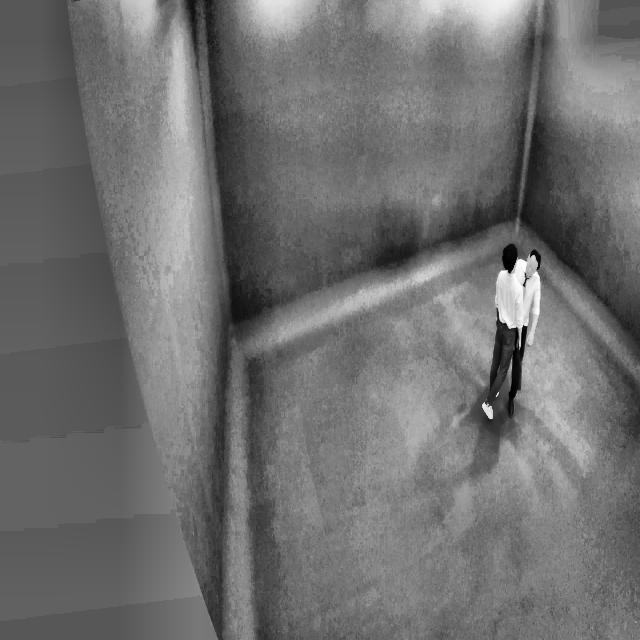assult: (487, 240, 542, 424)
